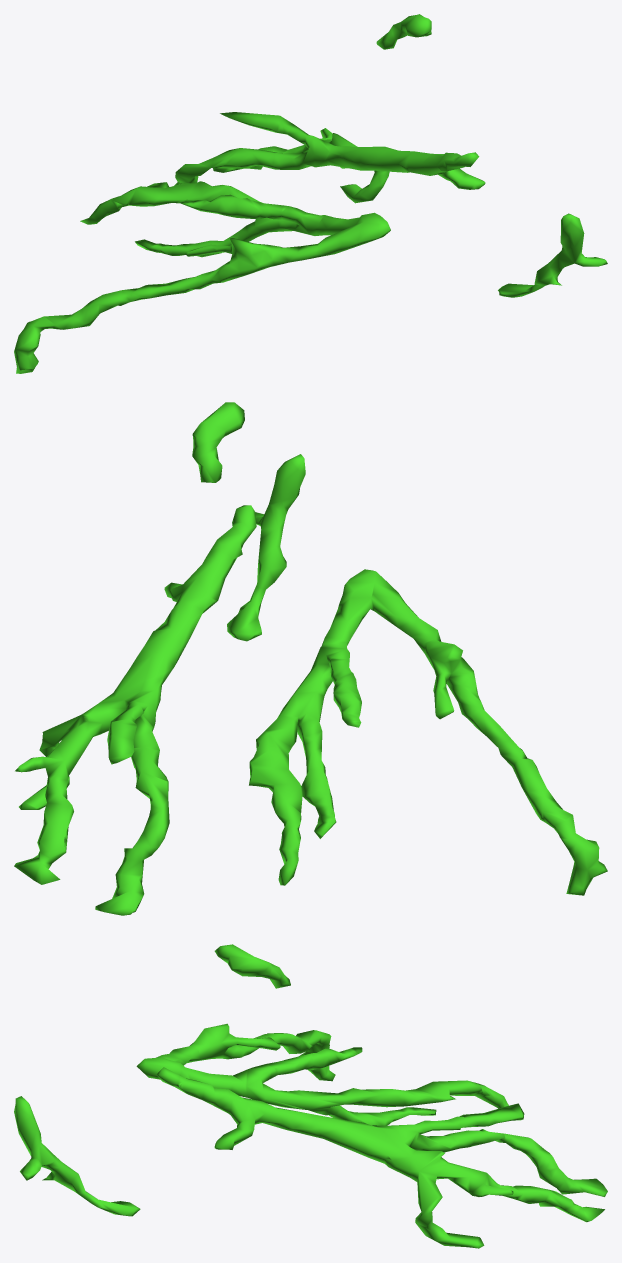
3 views of the same model, one above another, from view 1: azimuth 30°, elevation 25°; view 2: azimuth 150°, elevation 25°; view 3: azimuth 270°, elevation 25° (orthographic). The views are drawn at different scales.
Visible parts, largest first — view 1: Polygonal_Model_2_Triangles_0; view 2: Polygonal_Model_2_Triangles_0; view 3: Polygonal_Model_2_Triangles_0.
Part boxes in pixels (x1,y1,x2,y2): Polygonal_Model_2_Triangles_0: (14,14,607,373); Polygonal_Model_2_Triangles_0: (14,402,607,915); Polygonal_Model_2_Triangles_0: (14,944,607,1248).
Bounding box in the file's own units: 3.01 × 1.93 × 3.41.
